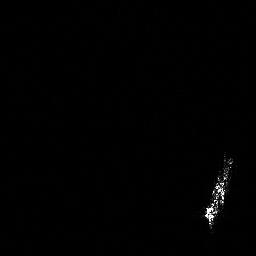ship: (200, 151, 237, 232)
